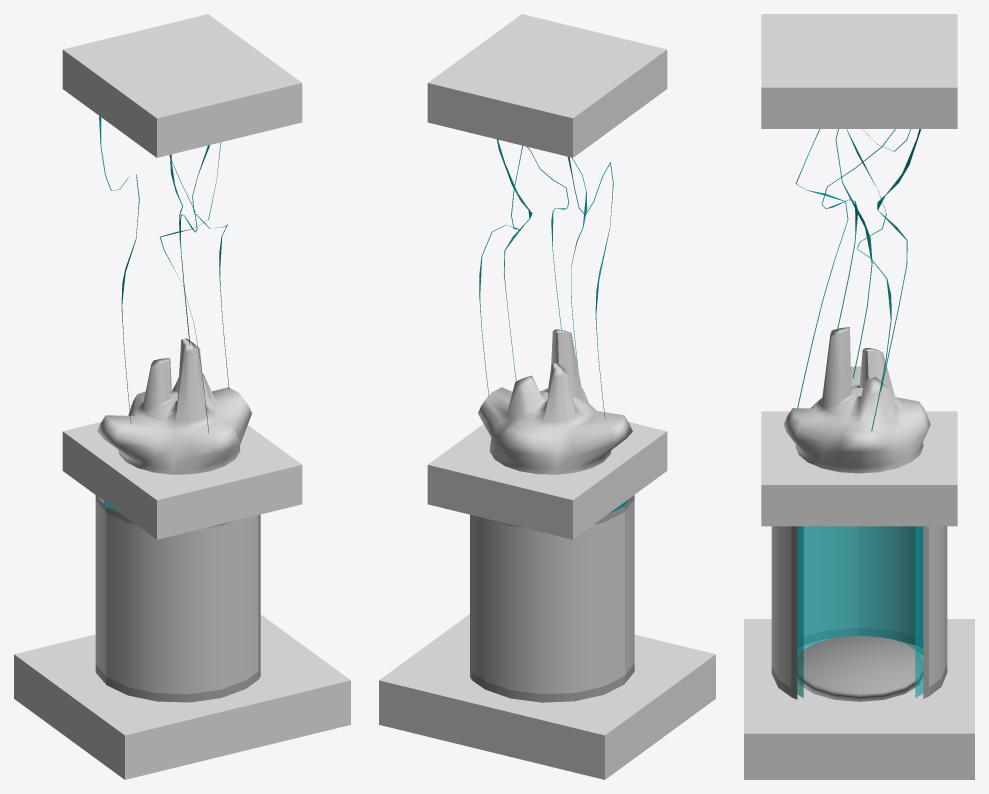
Rendered from at_pod 1.fbx.
The picture shows the model from 3 angles, left to right: view 1: azimuth 30°, elevation 25°; view 2: azimuth 150°, elevation 25°; view 3: azimuth 270°, elevation 25°; orthographic projection. The views are drawn at different scales.
Visible parts, largest first — view 1: polySurface3, Right_door, Left_Door; view 2: polySurface3, Left_Door, Right_door; view 3: polySurface3, Left_Door, Right_door.
Boxes of the visible parts, box(x1,y1,x2,y2) form: polySurface3: box(14, 14, 350, 779); Right_door: box(106, 507, 260, 702); Left_Door: box(95, 495, 115, 685); polySurface3: box(379, 14, 715, 779); Left_Door: box(470, 506, 624, 702); Right_door: box(614, 495, 634, 684); polySurface3: box(744, 14, 974, 779); Left_Door: box(858, 526, 947, 698); Right_door: box(771, 526, 857, 699).
Bounding box in the file's own units: 10.3 × 28.1 × 8.75.
